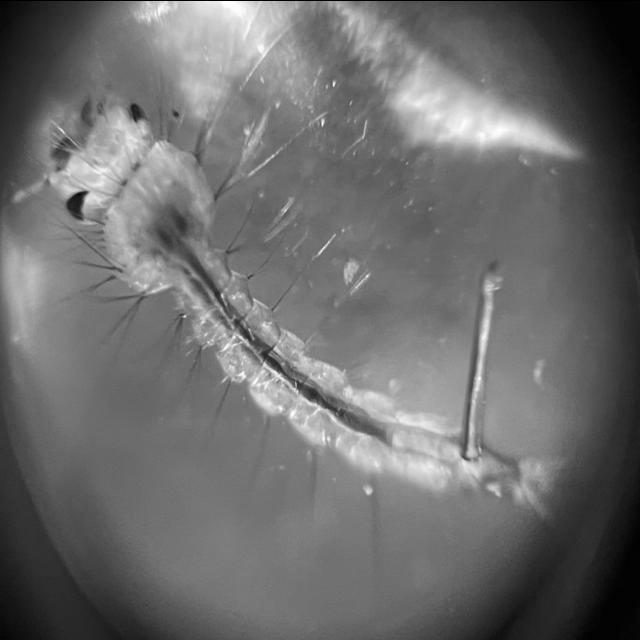larvas: (58, 108, 535, 492)
